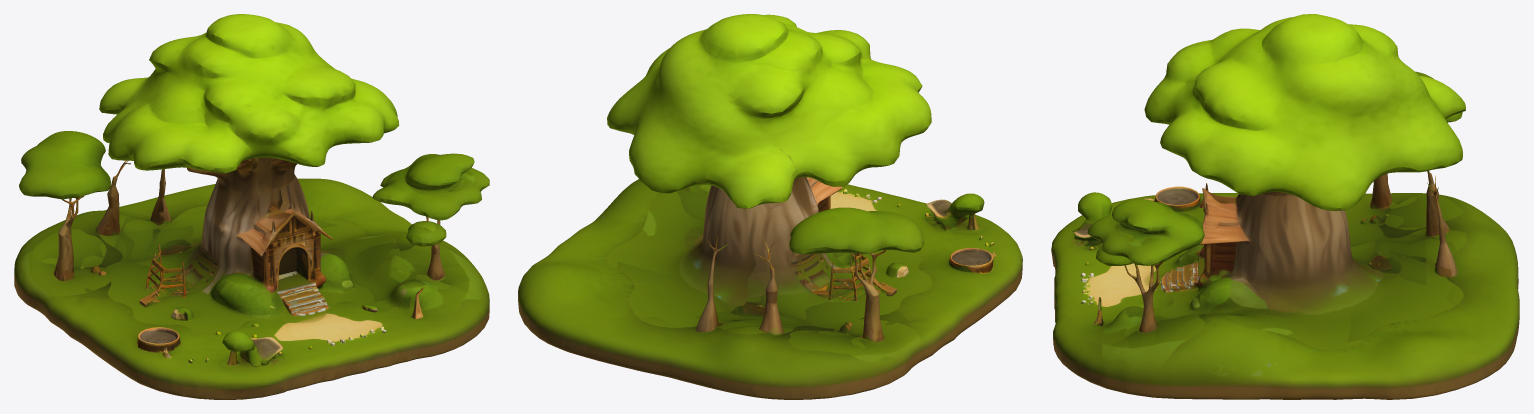
The model's file is kapitanMakoyBase.fbx.
3 views of the same model, side by side, from view 1: azimuth 30°, elevation 25°; view 2: azimuth 150°, elevation 25°; view 3: azimuth 270°, elevation 25° (orthographic). The views are drawn at different scales.
Visible parts, largest first — view 1: model; view 2: model; view 3: model.
Part boxes in pixels (x1=…): model: x1=14, y1=14, x2=489, y2=399; model: x1=518, y1=14, x2=1022, y2=399; model: x1=1051, y1=14, x2=1519, y2=399.
Size of the model in its own units: 185 by 128 by 189.
Materials: 1 (1 with a texture image).
